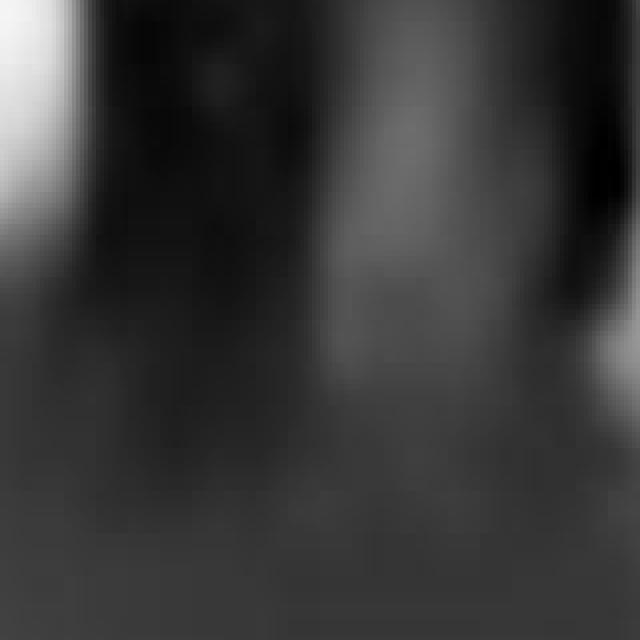person: (329, 1, 549, 428), (1, 1, 109, 284)
